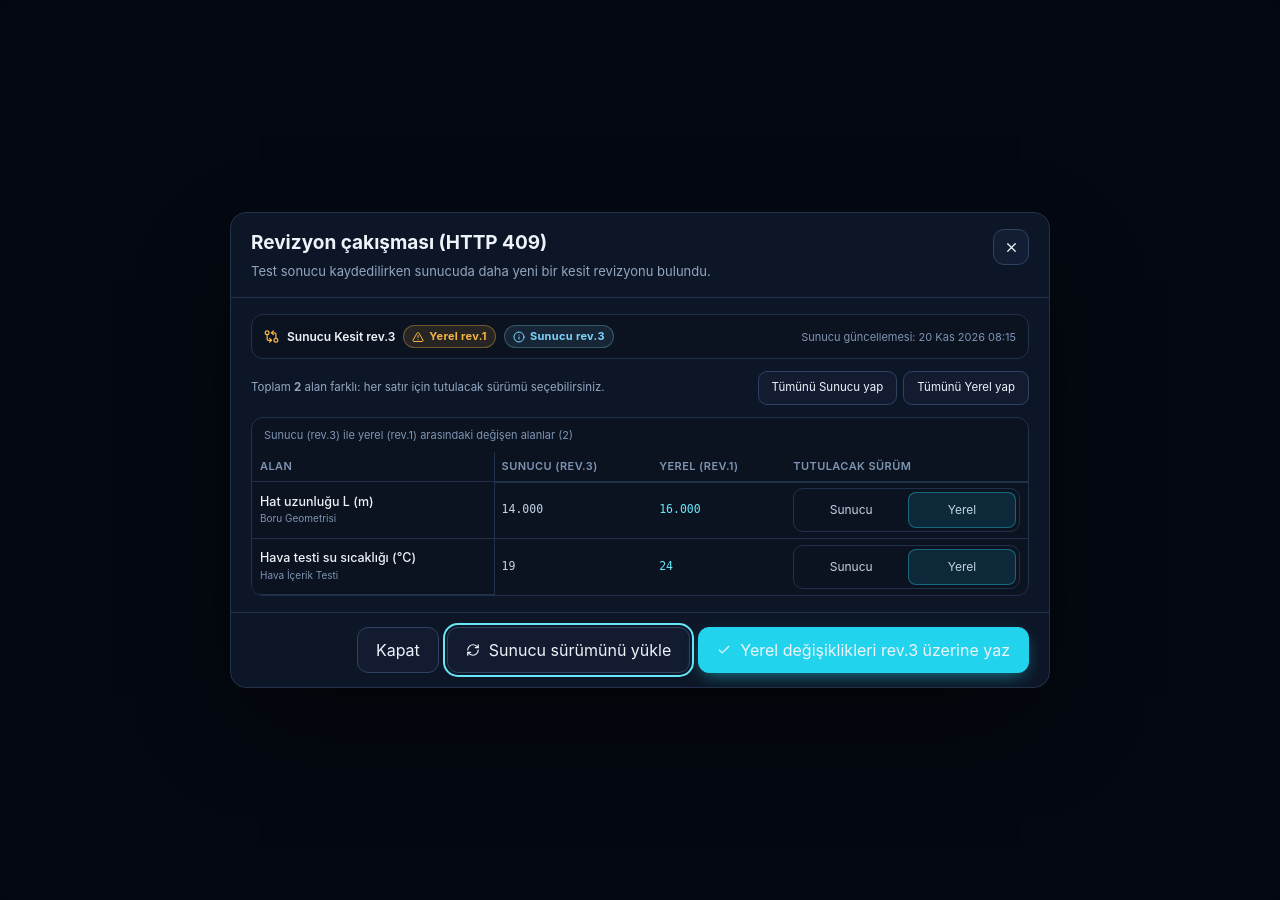
Test case: RevisionConflictModal & Desktop JSON Snapshot Import › promotes save_result merge state cleanly when secondary saveResult hits 409
Later steps or results of the test are not shown.
Click the button "Yerel değişiklikleri rev.3 üzerine yaz".
click(864, 650)  # box [698, 626, 1029, 672]
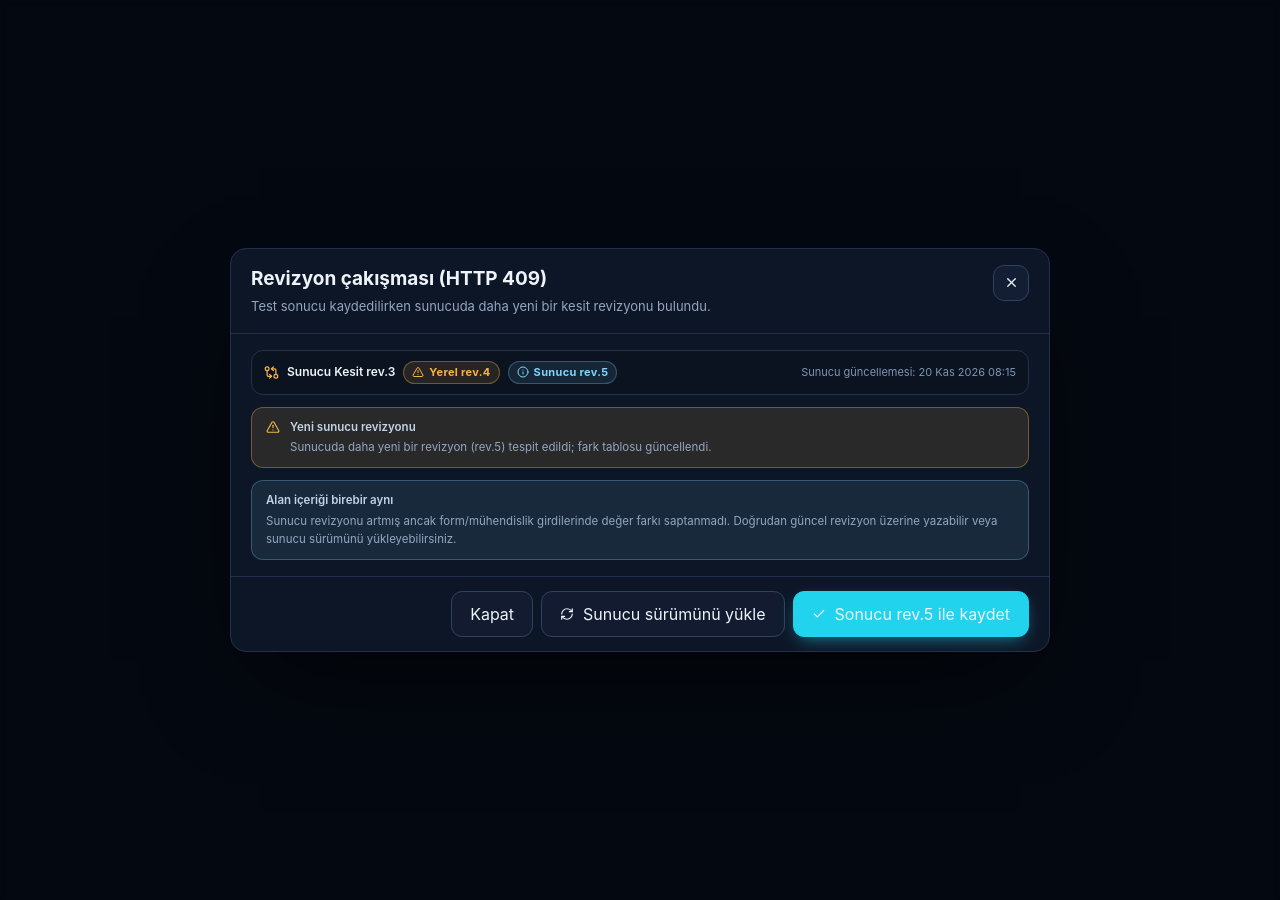
Expected: the text "Sunucuda daha yeni bir revizyon (rev.5) tespit edildi" is shown, [290, 440, 712, 454]
